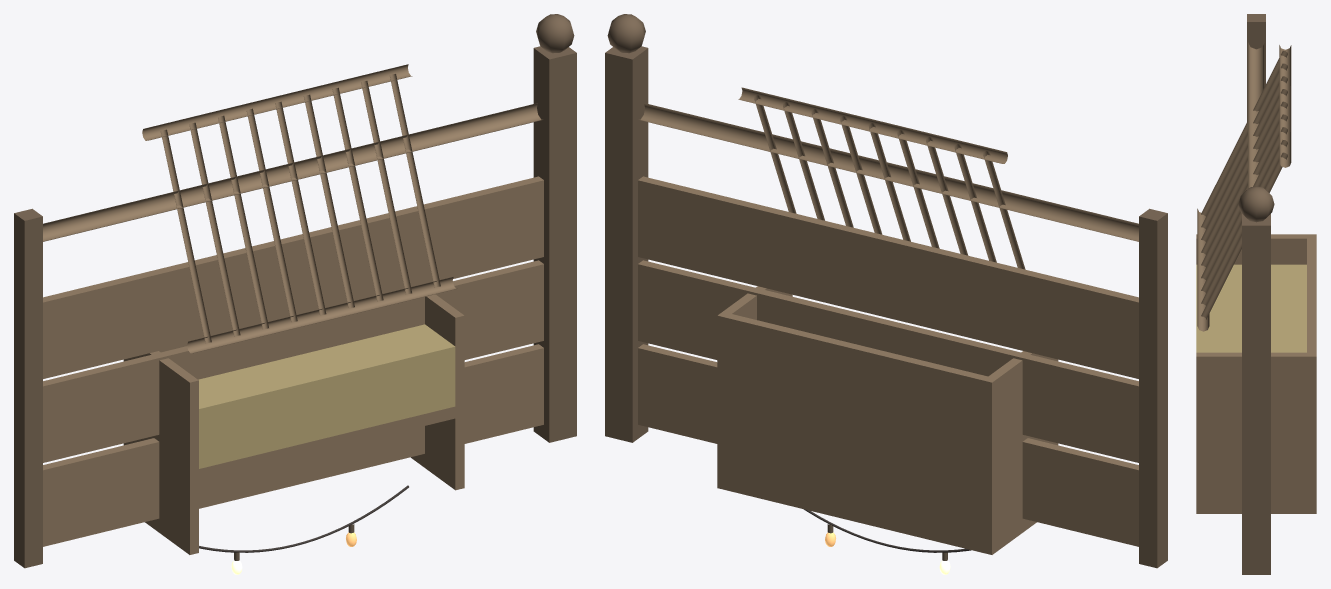
File: barn_props.glb
3 renders of one model, left to right at view 1: azimuth 30°, elevation 25°; view 2: azimuth 150°, elevation 25°; view 3: azimuth 270°, elevation 25°, orthographic. The views are drawn at different scales.
Parts seen in each view (by area): view 1: p_barn_stall_div, p_barn_manger, p_barn_garland; view 2: p_barn_stall_div, p_barn_manger, p_barn_garland; view 3: p_barn_manger, p_barn_stall_div.
Boxes of the visible parts, <box> form: p_barn_stall_div: <box>14,14,576,568</box>; p_barn_manger: <box>123,64,464,554</box>; p_barn_garland: <box>199,485,408,574</box>; p_barn_stall_div: <box>605,14,1167,568</box>; p_barn_manger: <box>717,87,1058,554</box>; p_barn_garland: <box>804,509,971,574</box>; p_barn_manger: <box>1196,45,1316,513</box>; p_barn_stall_div: <box>1238,14,1274,574</box>.
Size of the model in its own units: 2.42 by 2.01 by 0.5.
